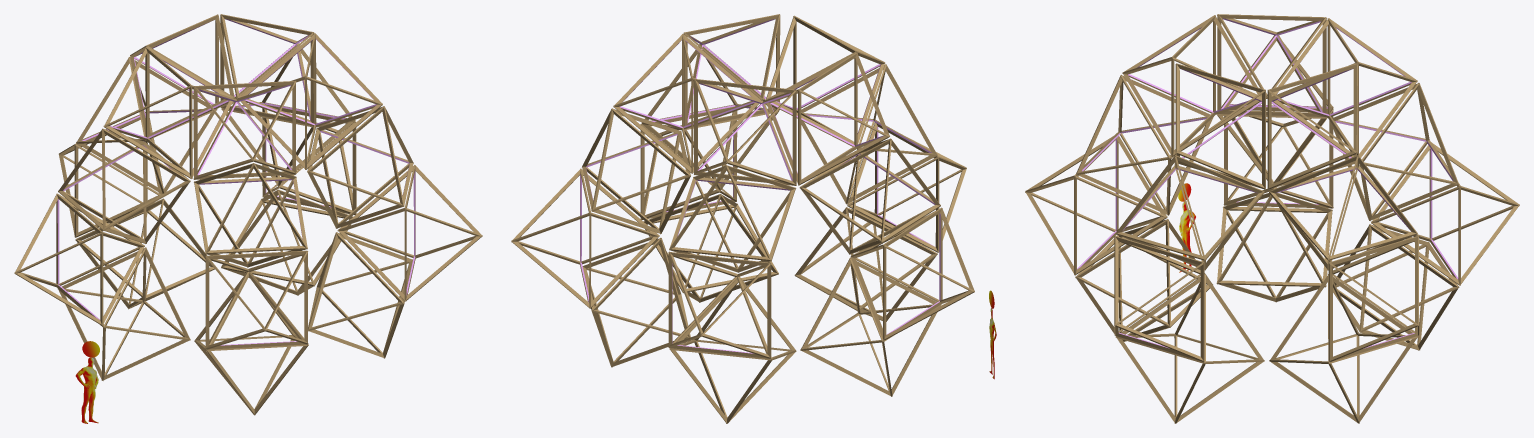
The model's file is tofsy-textured.obj.
3 renders of one model, left to right at view 1: azimuth 30°, elevation 25°; view 2: azimuth 150°, elevation 25°; view 3: azimuth 270°, elevation 25°, orthographic. The views are drawn at different scales.
Visible parts, largest first — view 1: Mesh42 Group41 OH_with_diags02_3_1 Model, Mesh23 Group23 OH_with_diags02_17_1 Model, Mesh14 Group14 OH_with_diags02_7_1 Model, Mesh2 Group2 OH_with_diags02_2_1 Model, Mesh39 Group38 OH_with_diags02_13_1 Model, Mesh31 Group30 OH_with_diags02_14_1 Model, Mesh45 Group44 OH_with_diags02_10_1 Model, Mesh36 Group35 OH_with_diags02_8_1 Model, Mesh28 Group27 OH_with_diags02_9_1 Model, Mesh34 Group33 OH_with_diags02_4_1 Model, Mesh7 Group7 OH_with_diags02_12_1 Model, Mesh60 Group59 OH_with_diags02_16_1 Model (+45 smaller); view 2: Mesh49 Group48 OH_with_diags02_5_1 Model, Mesh1 Group1 OH_with_diags02_2_1 Model, Mesh61 Group60 OH_with_diags02_16_1 Model, Mesh55 Group54 OH_with_diags02_6_1 Model, Mesh37 Group36 OH_with_diags02_8_1 Model, Mesh52 Group51 OH_with_diags02_15_1 Model, Mesh5 Group5 OH_with_diags02_2_2 Model, Mesh46 Group45 OH_with_diags02_10_1 Model, Mesh29 Group28 OH_with_diags02_14_1 Model, Mesh26 Group25 OH_with_diags02_9_1 Model, Mesh32 Group31 OH_with_diags02_4_1 Model, Mesh56 Group55 OH_with_diags02_11_1 Model (+44 smaller); view 3: Mesh20 Group20 OH_with_diags02_2_5 Model, Mesh16 Group16 OH_with_diags02_2_4 Model, Mesh51 Group50 OH_with_diags02_15_1 Model, Mesh35 Group34 OH_with_diags02_8_1 Model, Mesh48 Group47 OH_with_diags02_5_1 Model, Mesh40 Group39 OH_with_diags02_13_1 Model, Mesh30 Group29 OH_with_diags02_14_1 Model, Mesh43 Group42 OH_with_diags02_3_1 Model, Mesh44 Group43 OH_with_diags02_10_1 Model, Mesh57 Group56 OH_with_diags02_11_1 Model, Mesh9 Group9 OH_with_diags02_12_1 Model, Mesh56 Group55 OH_with_diags02_11_1 Model (+48 smaller).
Boxes of the visible parts, <box> form: Mesh42 Group41 OH_with_diags02_3_1 Model: <box>205,250,307,349</box>; Mesh23 Group23 OH_with_diags02_17_1 Model: <box>239,33,382,169</box>; Mesh14 Group14 OH_with_diags02_7_1 Model: <box>338,165,482,301</box>; Mesh2 Group2 OH_with_diags02_2_1 Model: <box>58,247,189,380</box>; Mesh39 Group38 OH_with_diags02_13_1 Model: <box>193,81,295,179</box>; Mesh31 Group30 OH_with_diags02_14_1 Model: <box>104,47,232,178</box>; Mesh45 Group44 OH_with_diags02_10_1 Model: <box>76,57,216,193</box>; Mesh36 Group35 OH_with_diags02_8_1 Model: <box>194,176,307,254</box>; Mesh28 Group27 OH_with_diags02_9_1 Model: <box>58,128,190,243</box>; Mesh34 Group33 OH_with_diags02_4_1 Model: <box>14,193,144,325</box>; Mesh7 Group7 OH_with_diags02_12_1 Model: <box>316,106,404,228</box>; Mesh60 Group59 OH_with_diags02_16_1 Model: <box>220,14,314,124</box>; Mesh49 Group48 OH_with_diags02_5_1 Model: <box>668,252,771,358</box>; Mesh1 Group1 OH_with_diags02_2_1 Model: <box>800,258,941,396</box>; Mesh61 Group60 OH_with_diags02_16_1 Model: <box>613,34,760,173</box>; Mesh55 Group54 OH_with_diags02_6_1 Model: <box>511,169,659,308</box>; Mesh37 Group36 OH_with_diags02_8_1 Model: <box>801,64,937,204</box>; Mesh52 Group51 OH_with_diags02_15_1 Model: <box>694,79,796,185</box>; Mesh5 Group5 OH_with_diags02_2_2 Model: <box>669,277,796,423</box>; Mesh46 Group45 OH_with_diags02_10_1 Model: <box>669,176,795,261</box>; Mesh29 Group28 OH_with_diags02_14_1 Model: <box>766,52,889,185</box>; Mesh26 Group25 OH_with_diags02_9_1 Model: <box>799,139,940,254</box>; Mesh32 Group31 OH_with_diags02_4_1 Model: <box>850,207,974,339</box>; Mesh56 Group55 OH_with_diags02_11_1 Model: <box>591,108,681,233</box>; Mesh20 Group20 OH_with_diags02_2_5 Model: <box>1116,274,1264,423</box>; Mesh16 Group16 OH_with_diags02_2_4 Model: <box>1269,274,1417,423</box>; Mesh51 Group50 OH_with_diags02_15_1 Model: <box>1271,18,1417,157</box>; Mesh35 Group34 OH_with_diags02_8_1 Model: <box>1076,75,1212,215</box>; Mesh48 Group47 OH_with_diags02_5_1 Model: <box>1371,142,1519,285</box>; Mesh40 Group39 OH_with_diags02_13_1 Model: <box>1122,15,1261,156</box>; Mesh30 Group29 OH_with_diags02_14_1 Model: <box>1217,14,1326,116</box>; Mesh43 Group42 OH_with_diags02_3_1 Model: <box>1025,136,1167,274</box>; Mesh44 Group43 OH_with_diags02_10_1 Model: <box>1331,83,1458,220</box>; Mesh57 Group56 OH_with_diags02_11_1 Model: <box>1269,166,1417,260</box>; Mesh9 Group9 OH_with_diags02_12_1 Model: <box>1115,165,1264,260</box>; Mesh56 Group55 OH_with_diags02_11_1 Model: <box>1269,155,1417,270</box>.
Size of the model in its own units: 419 by 310 by 435.
3 materials, 1 textured.
